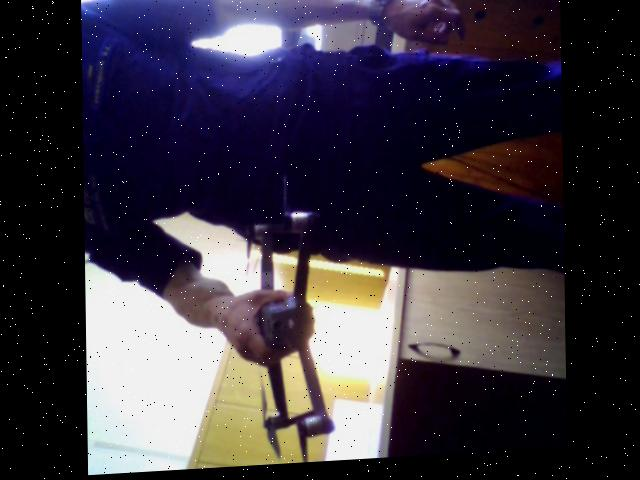drone: (229, 167, 340, 469)
